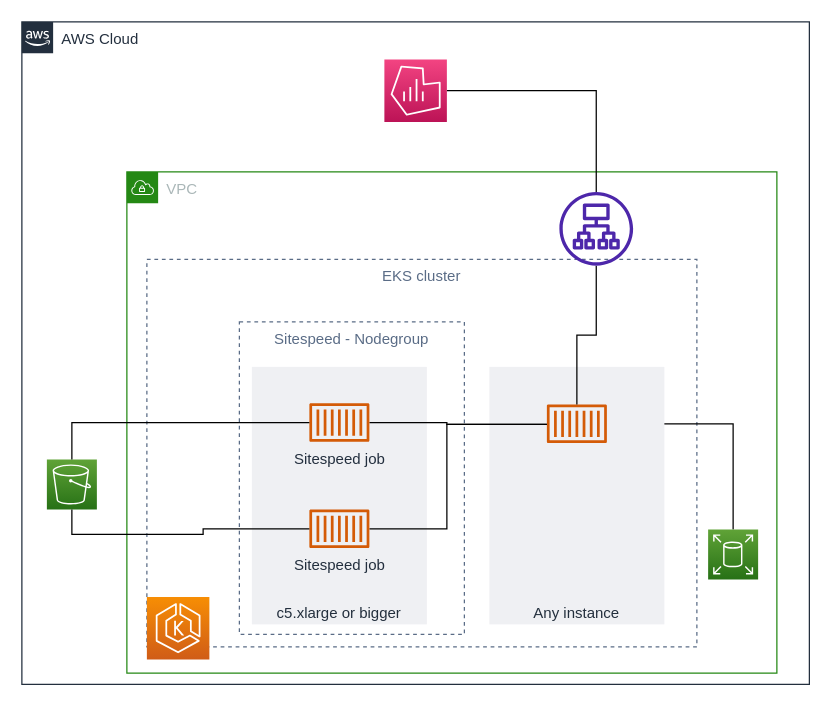
The diagram is 831 pixels wide and 706 high, and some of its shapes have lost their labels. The centre of each missing label's shape, as x and y in pixels:
"Graphite" goes at [576,423].
"Managed Grafana" goes at [415,90].
